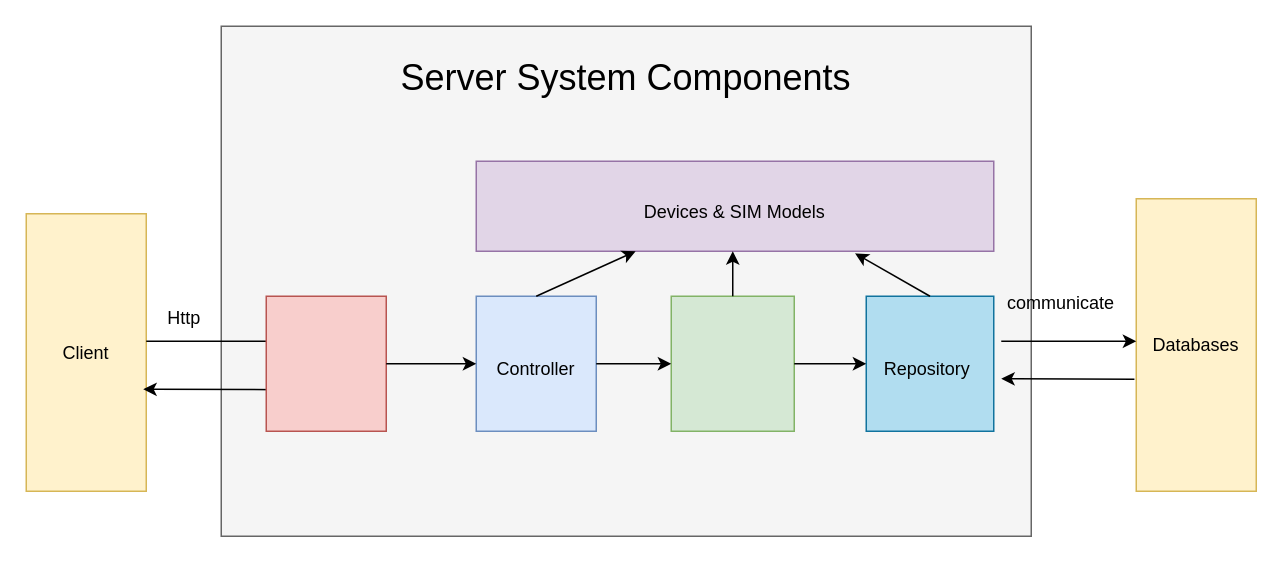
Image size: 1283x563. Some labels were removed from this diagram. Each missing label, with the centre of its shape:
"Security" goes at pixel 325 363.
"Service" goes at pixel 732 363.
